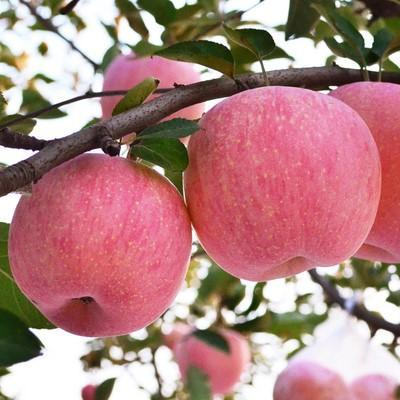apple: (184, 86, 379, 284), (8, 158, 195, 343), (326, 80, 400, 265), (99, 49, 205, 150)
